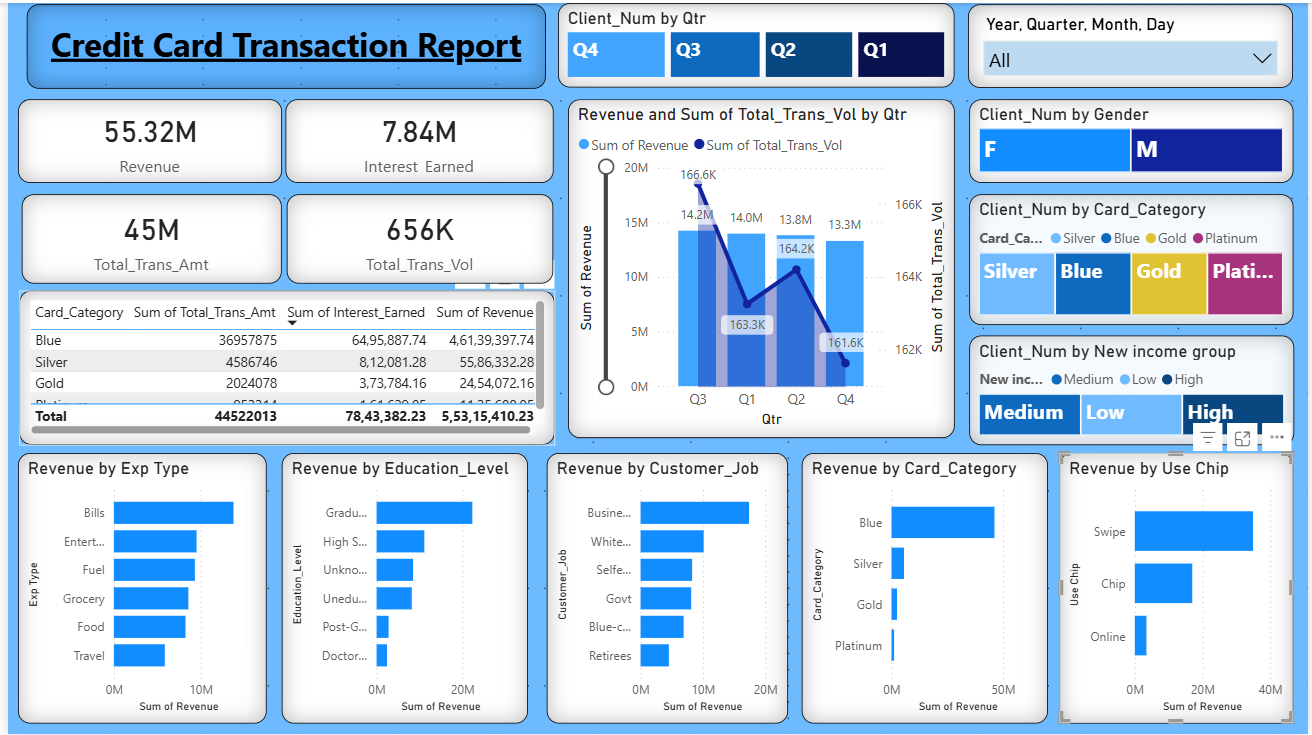

What the dashboard file says about the page in this screenshot:
{"tool":"powerbi","page":{"name":"Credit Card Transaction","canvas":[1280,720],"ordinal":0},"visuals":[{"type":"textbox","box":[18.7,1.2,511.3,83.3],"z":0},{"type":"treemap","title":"Client_Num by Qtr","fields":{"Group":["Credit_Card.Qtr"],"Values":["Avg(Credit_Card.Client_Num)"]},"box":[541.1,0,390.6,83.3],"z":1000},{"type":"slicer","fields":{"Values":["Credit_Card.Week_Start_Date.Variation.Date Hierarchy.Year","Credit_Card.Week_Start_Date.Variation.Date Hierarchy.Quarter","Credit_Card.Week_Start_Date.Variation.Date Hierarchy.Month","Credit_Card.Week_Start_Date.Variation.Date Hierarchy.Day"]},"box":[945.4,1.2,319.7,82.1],"z":2000},{"type":"treemap","title":"Client_Num by Gender","fields":{"Group":["Customers_Card.Gender"],"Values":["Avg(Credit_Card.Client_Num)"]},"box":[946,94.5,319,82.2],"z":3000},{"type":"tableEx","fields":{"Values":["Credit_Card.Card_Category","Sum(Credit_Card.Total_Trans_Amt)","Sum(Credit_Card.Interest_Earned)","Sum(Credit_Card.Revenue)"]},"box":[11.2,283.6,527.4,151.8],"z":4000},{"type":"barChart","title":"Revenue by Exp Type","fields":{"Category":["Credit_Card.Exp Type"],"Y":["Sum(Credit_Card.Revenue)"]},"box":[10,442.8,245.1,266.2],"z":5000},{"type":"barChart","title":"Revenue by Education_Level","fields":{"Category":["Customers_Card.Education_Level"],"Y":["Sum(Credit_Card.Revenue)"]},"box":[269.9,442.8,242.6,266.2],"z":6000},{"type":"barChart","title":"Revenue by Customer_Job","fields":{"Category":["Customers_Card.Customer_Job"],"Y":["Sum(Credit_Card.Revenue)"]},"box":[529.9,442.8,237.6,266.2],"z":7000},{"type":"barChart","title":"Revenue by Card_Category","fields":{"Category":["Credit_Card.Card_Category"],"Y":["Sum(Credit_Card.Revenue)"]},"box":[781.2,442.8,242.6,266.2],"z":8000},{"type":"barChart","title":"Revenue by Use Chip","fields":{"Category":["Credit_Card.Use Chip"],"Y":["Sum(Credit_Card.Revenue)"]},"box":[1035,442.8,230.1,266.2],"z":9000},{"type":"lineStackedColumnComboChart","title":"Revenue and Sum of Total_Trans_Vol by Qtr","fields":{"Category":["Credit_Card.Qtr"],"Y":["Sum(Credit_Card.Revenue)"],"Y2":["Sum(Credit_Card.Total_Trans_Vol)"]},"box":[551.1,94.5,380.7,333.4],"z":10000},{"type":"treemap","title":"Client_Num by Card_Category","fields":{"Group":["Credit_Card.Card_Category"],"Values":["Avg(Credit_Card.Client_Num)"]},"box":[946,187.7,319,128.8],"z":11000},{"type":"card","fields":{"Values":["Sum(Credit_Card.Revenue)"]},"box":[10,94.5,260,82.1],"z":12000},{"type":"card","fields":{"Values":["Sum(Credit_Card.Interest_Earned)"]},"box":[273.7,94.5,263.7,82.1],"z":13000},{"type":"card","fields":{"Values":["Sum(Credit_Card.Total_Trans_Amt)"]},"box":[13.7,187.8,256.3,88.3],"z":14000},{"type":"card","fields":{"Values":["Sum(Credit_Card.Total_Trans_Vol)"]},"box":[274.9,187.8,262.5,88.3],"z":15000},{"type":"treemap","title":"Client_Num by New income group","fields":{"Group":["Customers_Card.New income group"],"Values":["Avg(Credit_Card.Client_Num)"]},"box":[946,327.6,320.2,108],"z":16000}]}

Visuals, with their boxes in screenshot pixels (x1, y1, x2, y2), scaled from the page's 1280x720 canvas onto the 1312x735 screenshot:
textbox: pyautogui.locateOnScreen(19, 1, 543, 86)
"Client_Num by Qtr" treemap: pyautogui.locateOnScreen(555, 0, 955, 85)
slicer - Credit_Card.Week_Start_Date.Variation.Date Hierarchy.Year x Credit_Card.Week_Start_Date.Variation.Date Hierarchy.Quarter: pyautogui.locateOnScreen(969, 1, 1297, 85)
"Client_Num by Gender" treemap: pyautogui.locateOnScreen(970, 96, 1297, 180)
tableEx - Credit_Card.Card_Category x Sum(Credit_Card.Total_Trans_Amt): pyautogui.locateOnScreen(11, 290, 552, 444)
"Revenue by Exp Type" barChart: pyautogui.locateOnScreen(10, 452, 261, 724)
"Revenue by Education_Level" barChart: pyautogui.locateOnScreen(277, 452, 525, 724)
"Revenue by Customer_Job" barChart: pyautogui.locateOnScreen(543, 452, 787, 724)
"Revenue by Card_Category" barChart: pyautogui.locateOnScreen(801, 452, 1049, 724)
"Revenue by Use Chip" barChart: pyautogui.locateOnScreen(1061, 452, 1297, 724)
"Revenue and Sum of Total_Trans_Vol by Qtr" lineStackedColumnComboChart: pyautogui.locateOnScreen(565, 96, 955, 437)
"Client_Num by Card_Category" treemap: pyautogui.locateOnScreen(970, 192, 1297, 323)
card - Sum(Credit_Card.Revenue): pyautogui.locateOnScreen(10, 96, 277, 180)
card - Sum(Credit_Card.Interest_Earned): pyautogui.locateOnScreen(281, 96, 551, 180)
card - Sum(Credit_Card.Total_Trans_Amt): pyautogui.locateOnScreen(14, 192, 277, 282)
card - Sum(Credit_Card.Total_Trans_Vol): pyautogui.locateOnScreen(282, 192, 551, 282)
"Client_Num by New income group" treemap: pyautogui.locateOnScreen(970, 334, 1298, 445)
